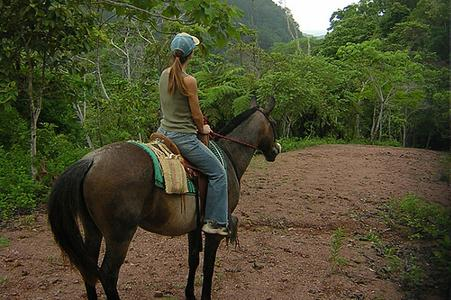person: (156, 33, 231, 236)
